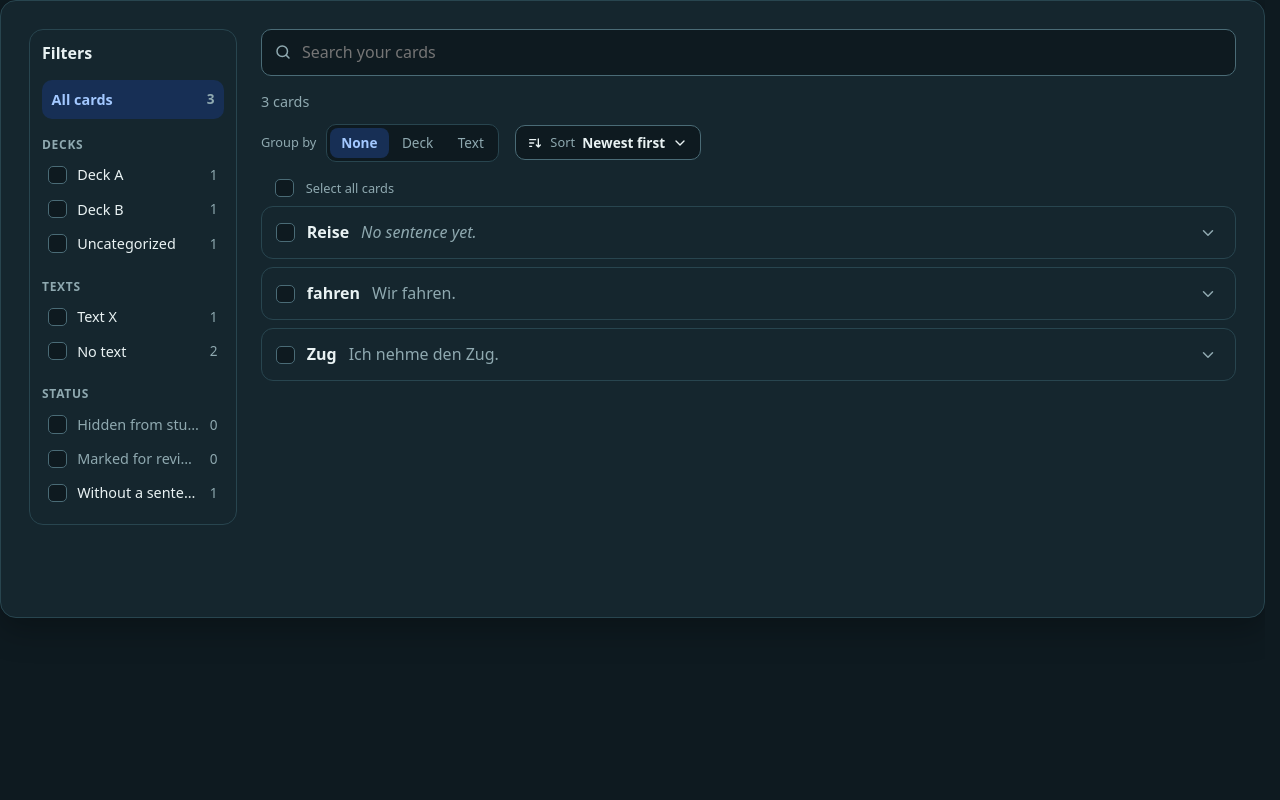
Scenario: the sort menu is our own list, and Escape closes it
Click the button with class "sort-button". click: {"x": 608, "y": 143}
box: top-left (515, 125), bottom-right (700, 160)
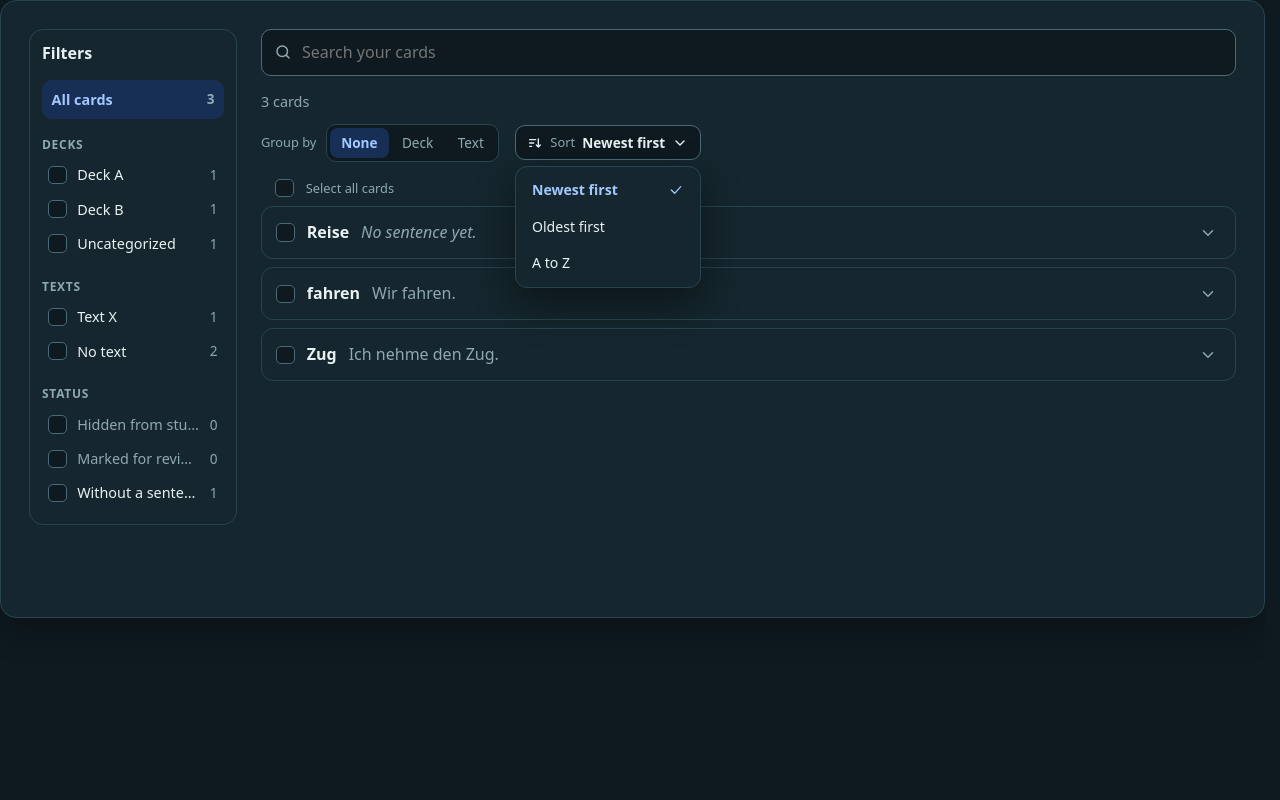
Expected: the number of menu items is 3, top-left (521, 172), bottom-right (695, 208); top-left (521, 208), bottom-right (695, 245); top-left (521, 245), bottom-right (695, 282)
Press Escape in the element with class "sort-menu", box top-left (515, 125), bottom-right (700, 160)
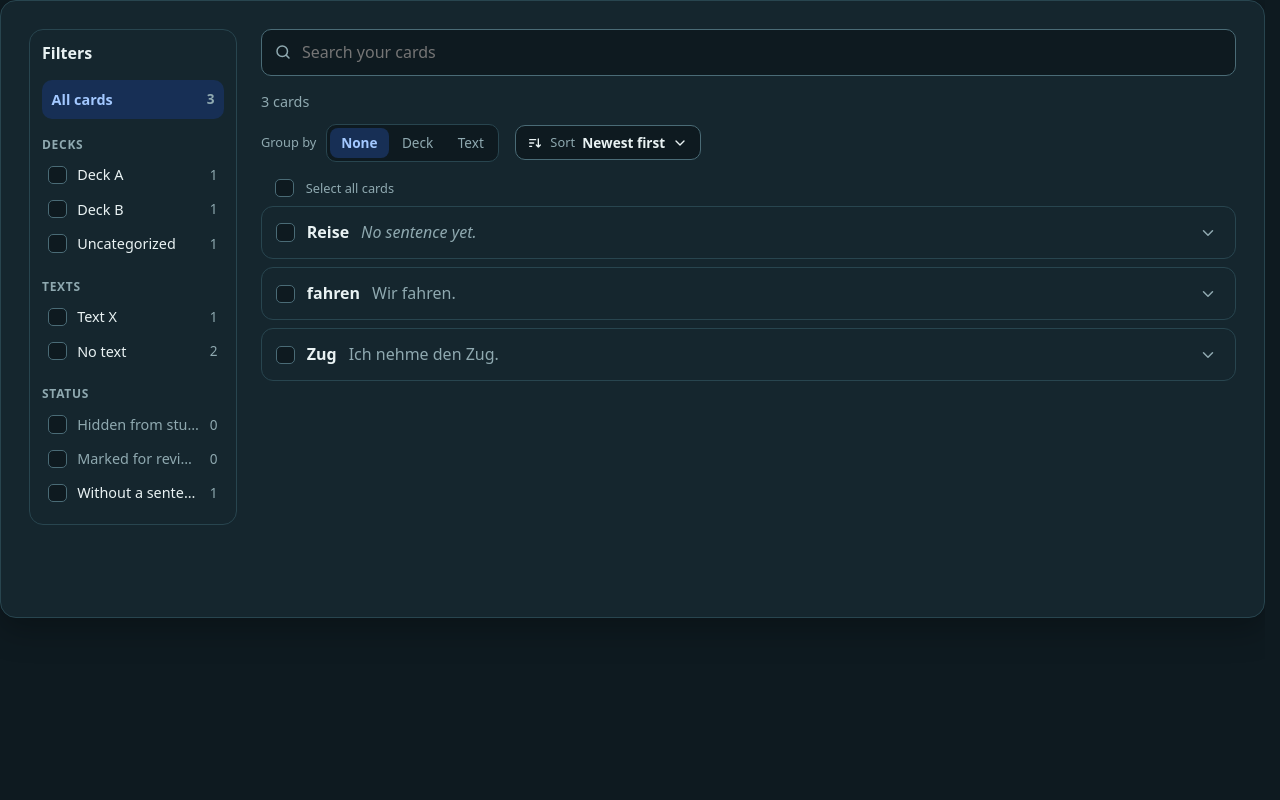
Expected: the menu is gone
